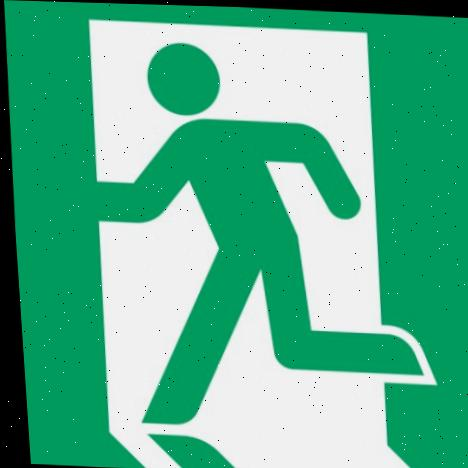emergency_exit: (3, 2, 466, 466)
